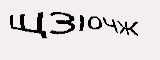І: (77, 14, 85, 32)
Ж: (117, 21, 141, 37)
З: (48, 10, 76, 35)
О: (87, 15, 102, 31)
Ч: (102, 16, 119, 33)
Щ: (8, 12, 48, 40)
